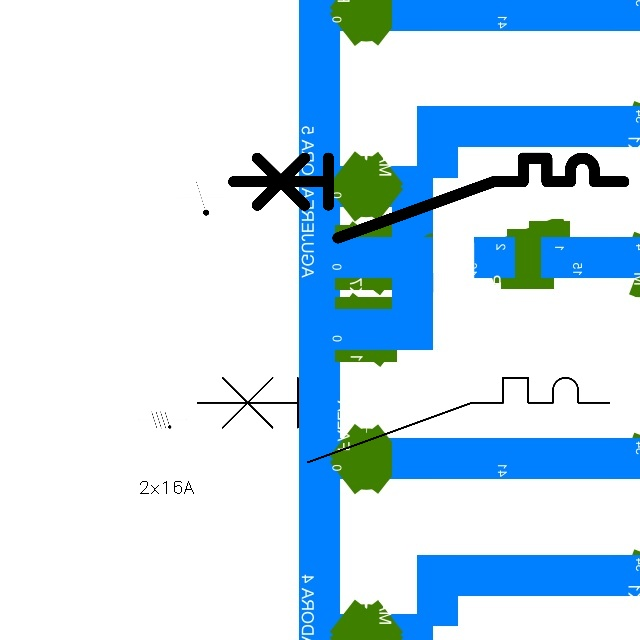interruptor_termomagnetico: (187, 367, 620, 473), (223, 148, 633, 248)
